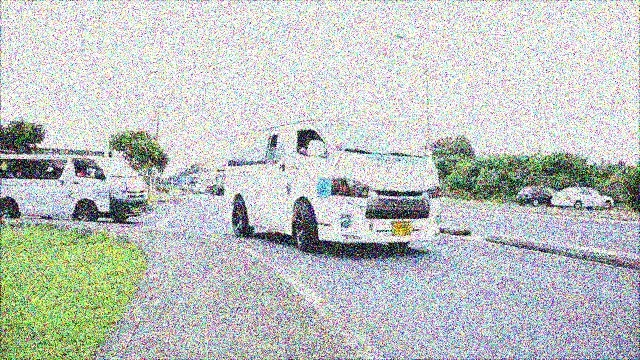van: (222, 119, 441, 254), (1, 151, 156, 225)
